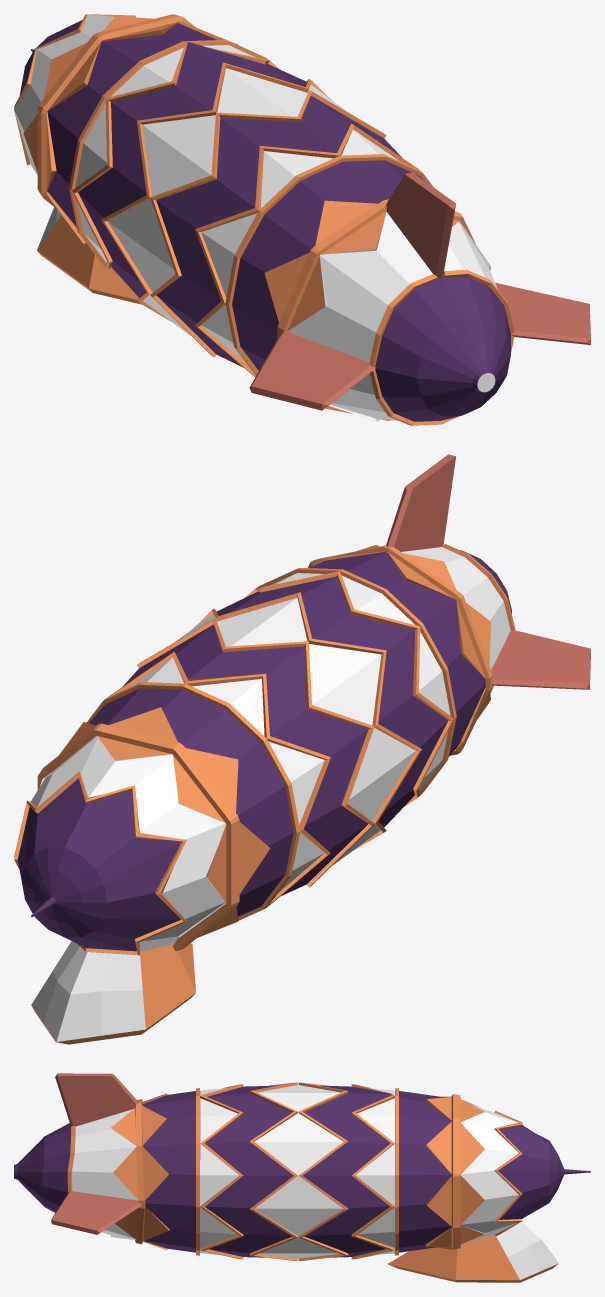
Rendered from airship1.glb.
The picture shows the model from 3 angles, top to bottom: view 1: azimuth 30°, elevation 25°; view 2: azimuth 150°, elevation 25°; view 3: azimuth 270°, elevation 25°; orthographic projection. The views are drawn at different scales.
Parts seen in each view (by area): view 1: Cylinder; view 2: Cylinder; view 3: Cylinder.
Part boxes in pixels (x1,y1,x2,y2): Cylinder: (14,14,590,425); Cylinder: (14,454,590,1044); Cylinder: (14,1073,590,1282).
Bounding box in the file's own units: 9.47 × 8.12 × 22.06.
